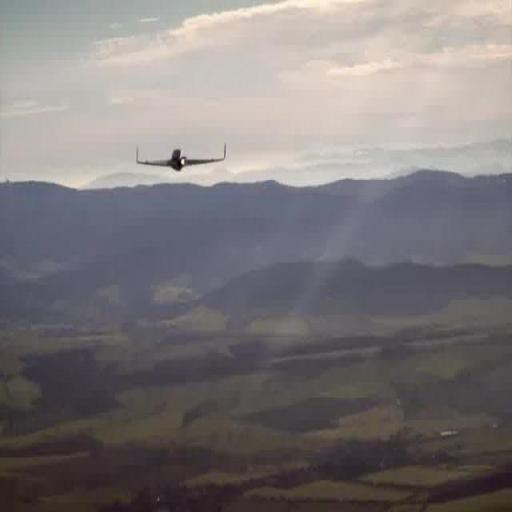uav: (134, 136, 228, 178)
